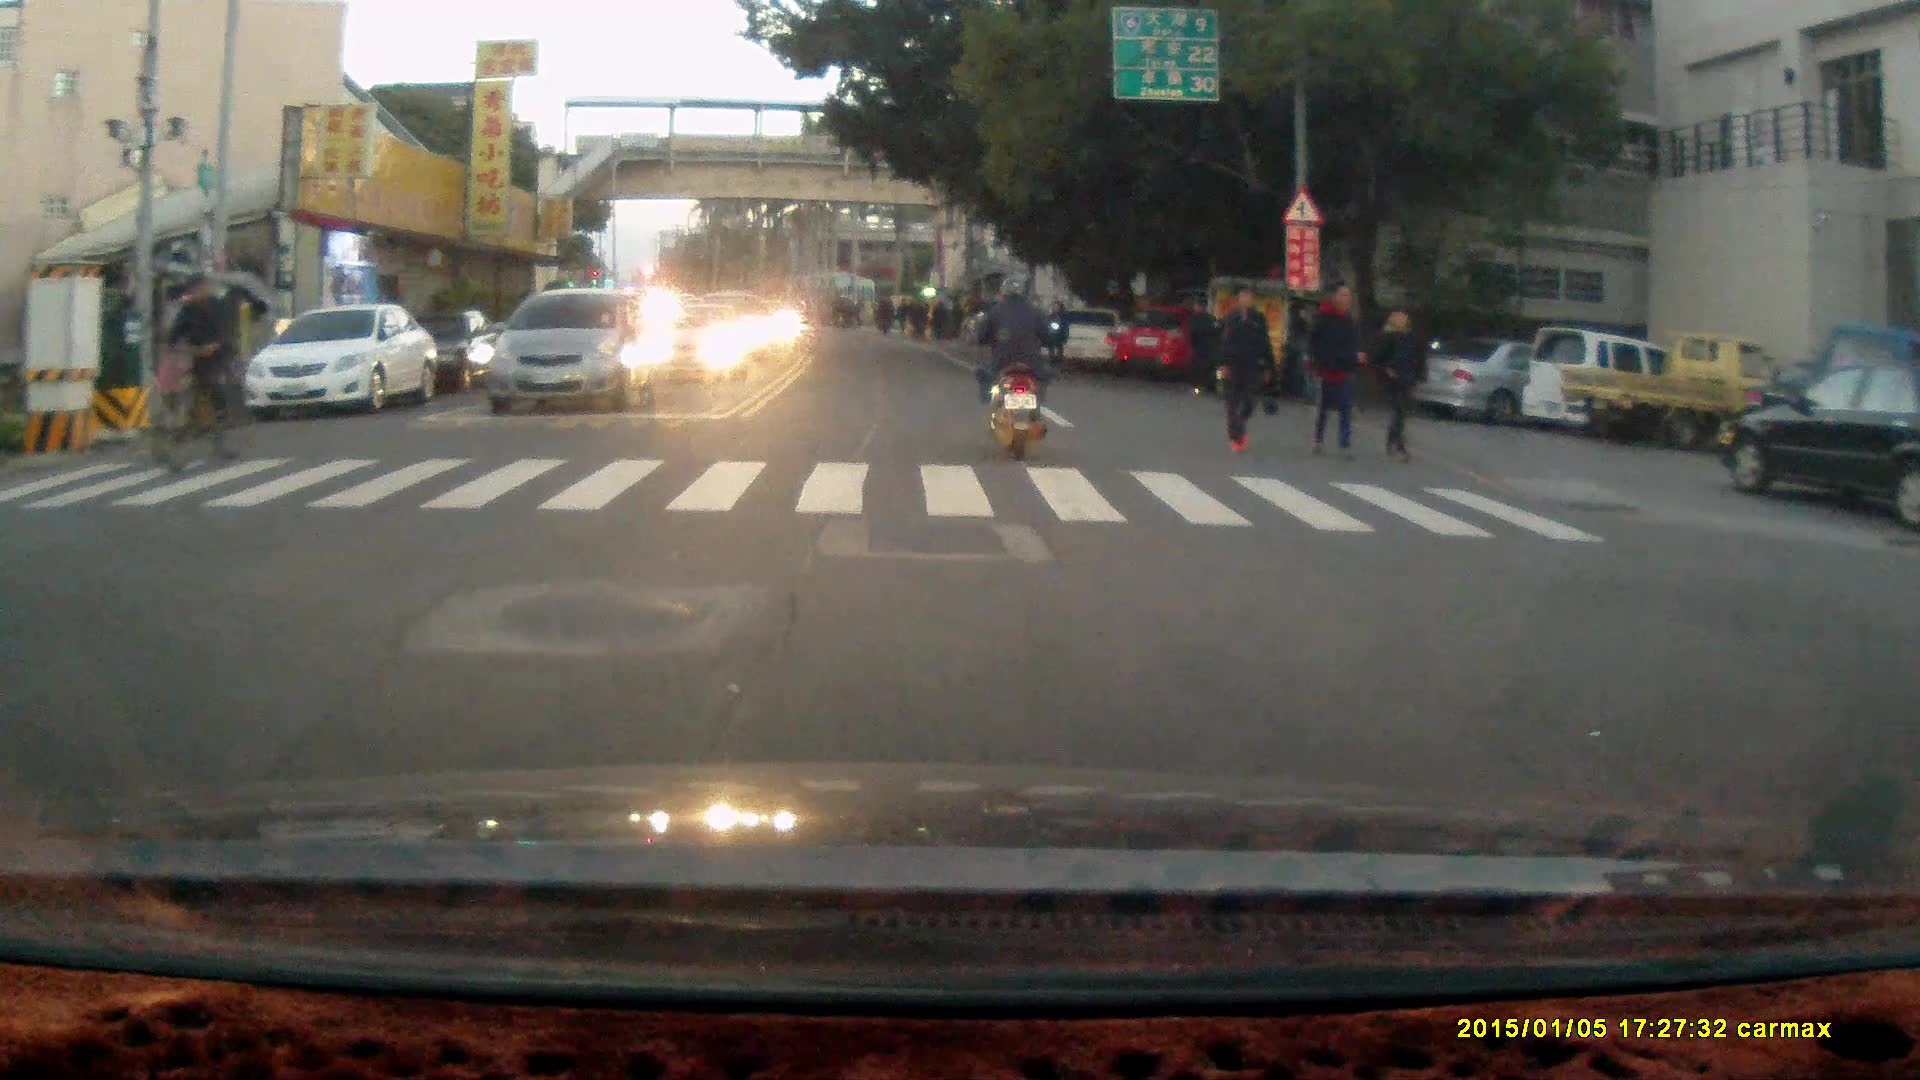pedestrian: (1210, 283, 1276, 458), (1303, 278, 1363, 467), (1373, 305, 1428, 466), (1184, 297, 1221, 401), (1042, 295, 1071, 377)
rider: (145, 269, 250, 478), (964, 277, 1054, 466)
vehicle: (1716, 361, 1920, 521), (1555, 330, 1792, 446), (475, 287, 655, 414), (243, 301, 436, 418), (1410, 335, 1630, 419), (391, 304, 516, 401), (646, 304, 748, 388), (1107, 303, 1208, 380)
